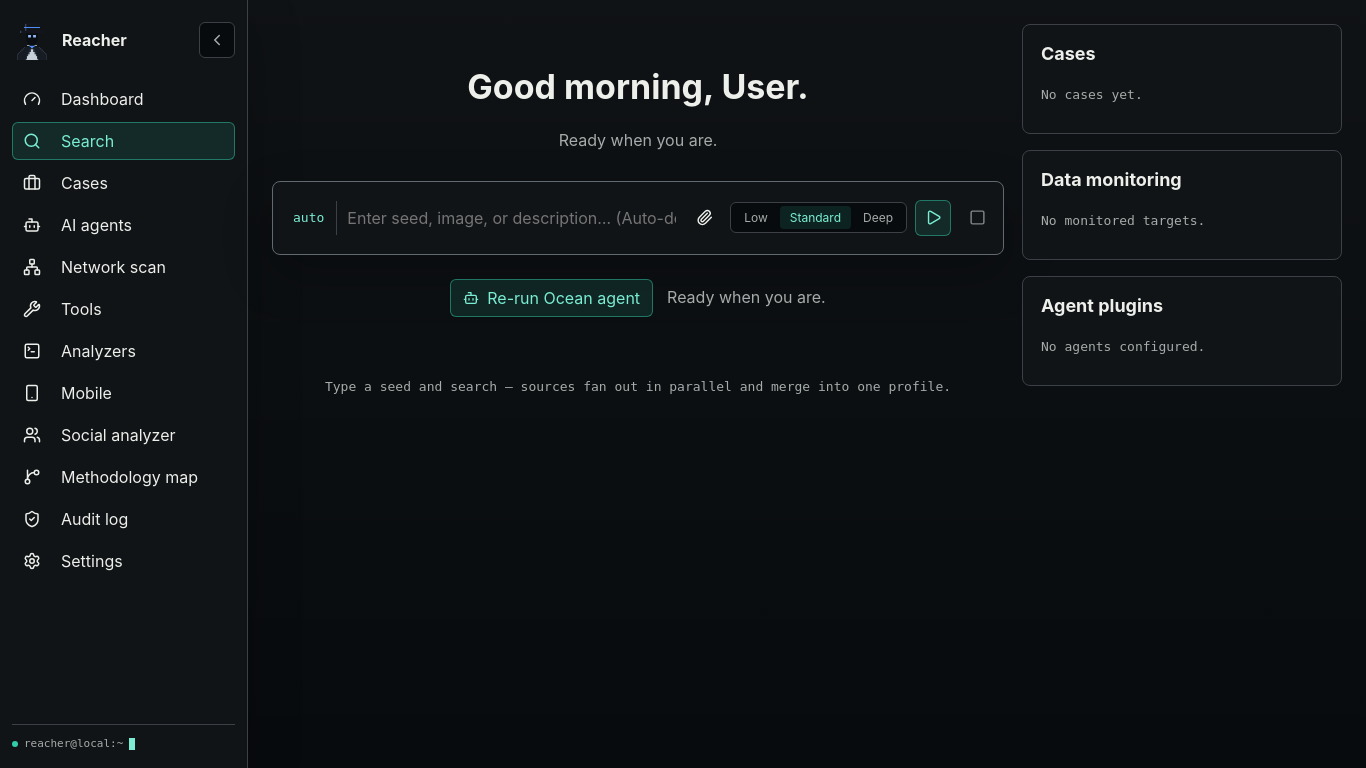
Test: search board fills in the Ocean agent's cited finding as it streams in, so one Enter produces the whole profile
The width and height of the screenshot is (1366, 768).
In the field labelled "seed": point(512, 218) x1=345 y1=197 x2=678 y2=239, type "example.com"
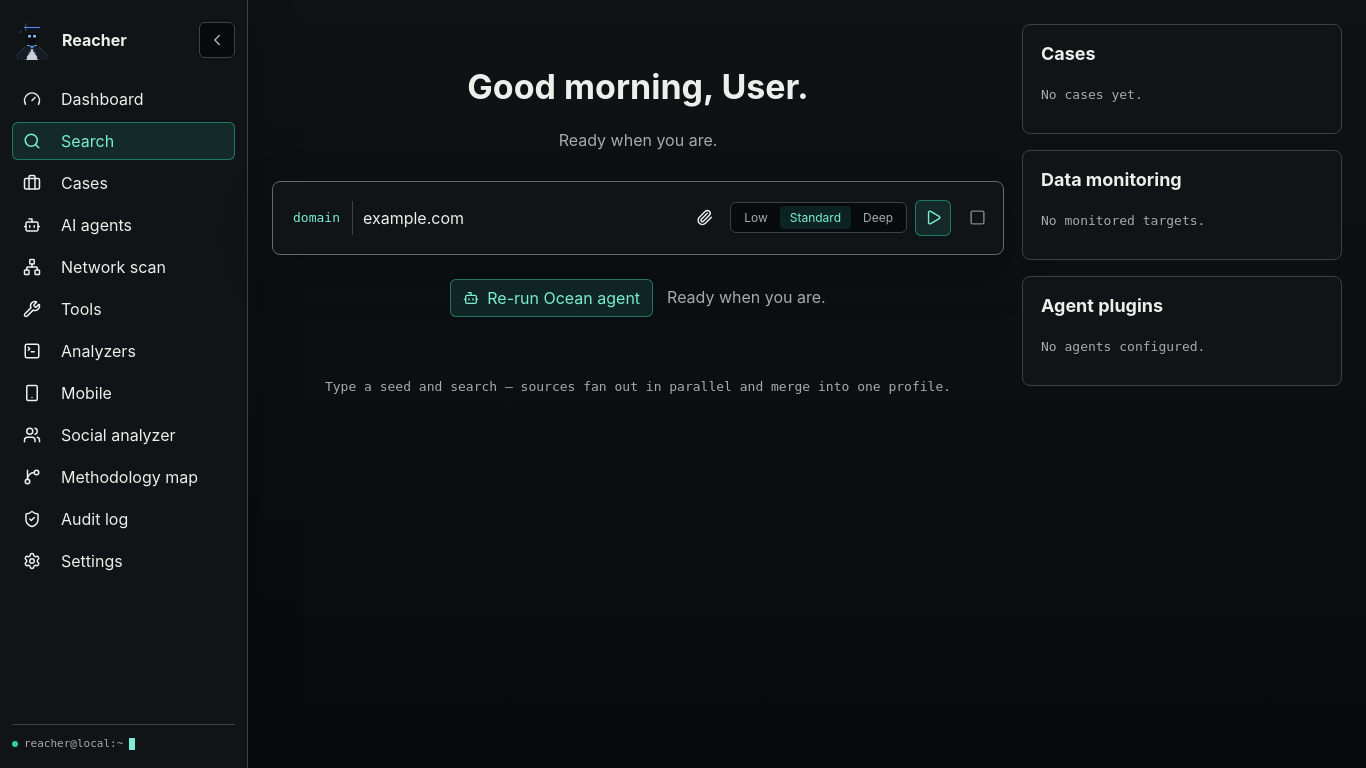
Click the button named "Search": point(933, 218) x1=915 y1=200 x2=951 y2=236
(page scrolled)
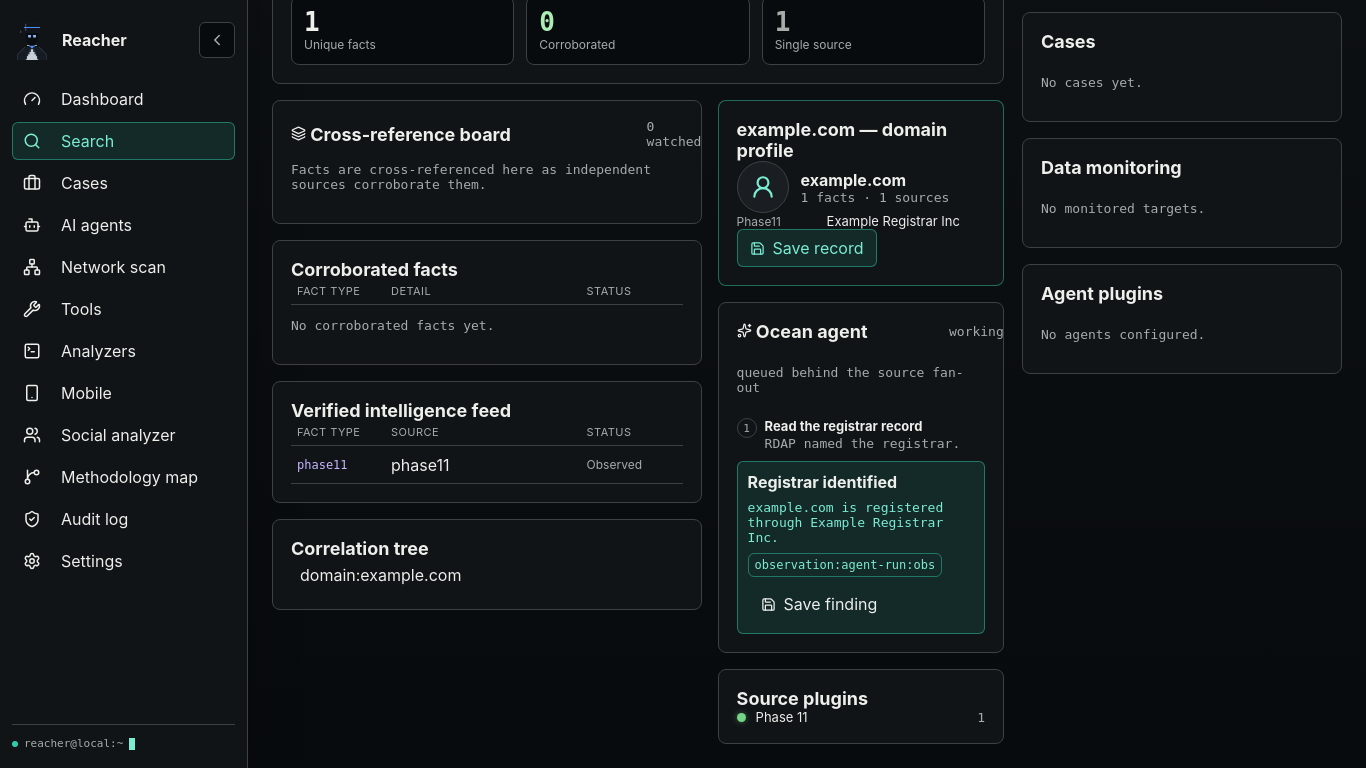
Expected: the heading "Ocean agent" is shown, x1=737 y1=321 x2=868 y2=342
Expected: the text "Registrar identified" is shown, x1=748 y1=472 x2=897 y2=492
Expected: the text "Read the registrar record" is shown, x1=765 y1=418 x2=922 y2=434
